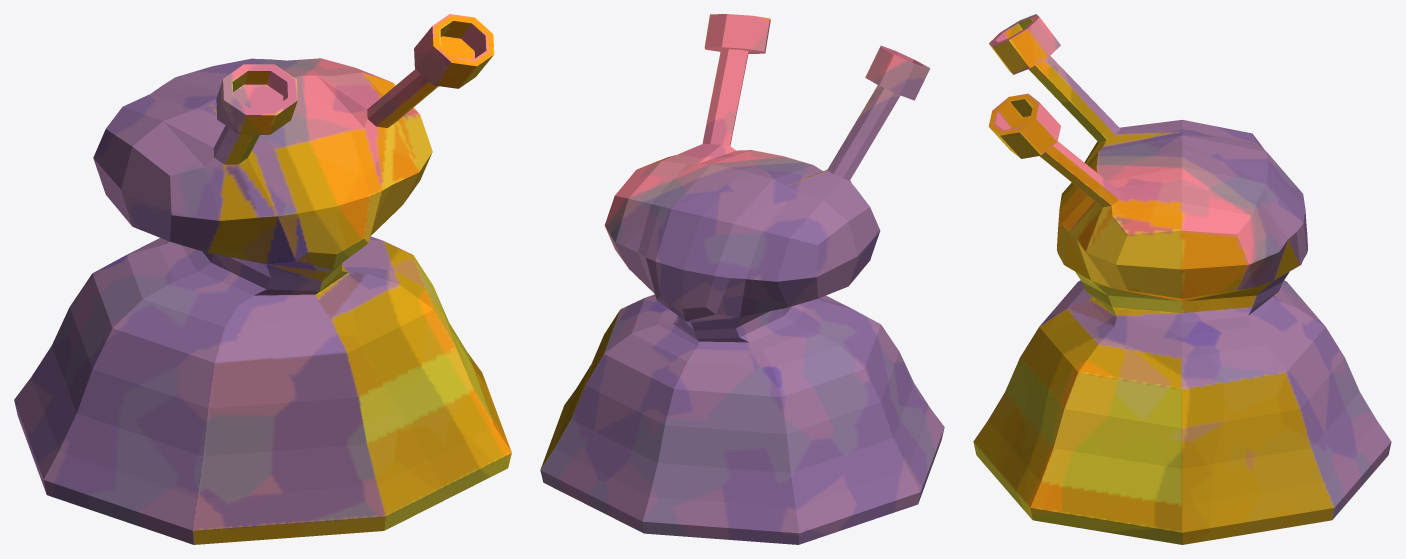
File: pvo.glb
3 renders of one model, left to right at view 1: azimuth 30°, elevation 25°; view 2: azimuth 150°, elevation 25°; view 3: azimuth 270°, elevation 25°, orthographic. The views are drawn at different scales.
Visible parts, largest first — view 1: pvo_new; view 2: pvo_new; view 3: pvo_new.
Boxes of the visible parts, box(x1,y1,x2,y2) form: pvo_new: box(14, 14, 511, 544); pvo_new: box(540, 14, 944, 544); pvo_new: box(973, 14, 1391, 544).
Size of the model in its own units: 0.4823 by 0.4994 by 0.4679.
Materials: 1 (1 with a texture image).
